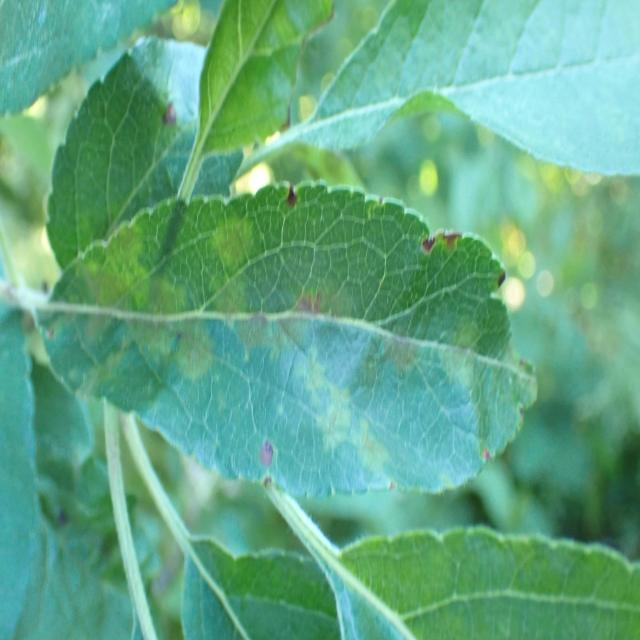frog-eye-leaf-spot: (42, 180, 540, 500)
